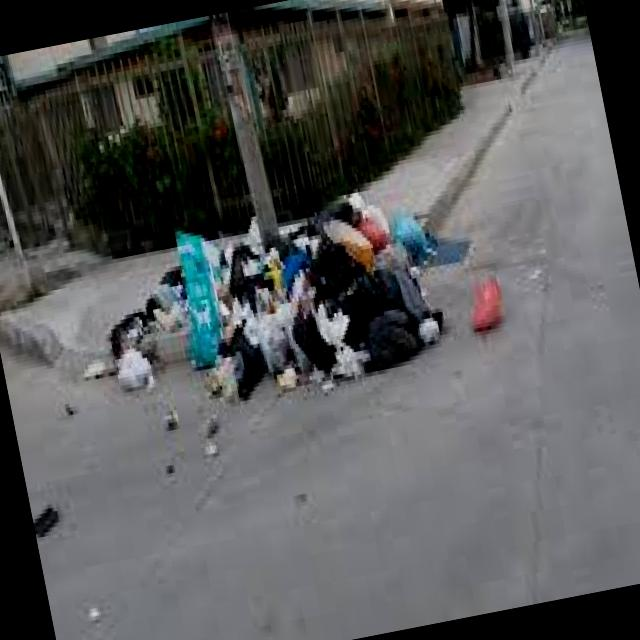garbage: (80, 138, 466, 472)
